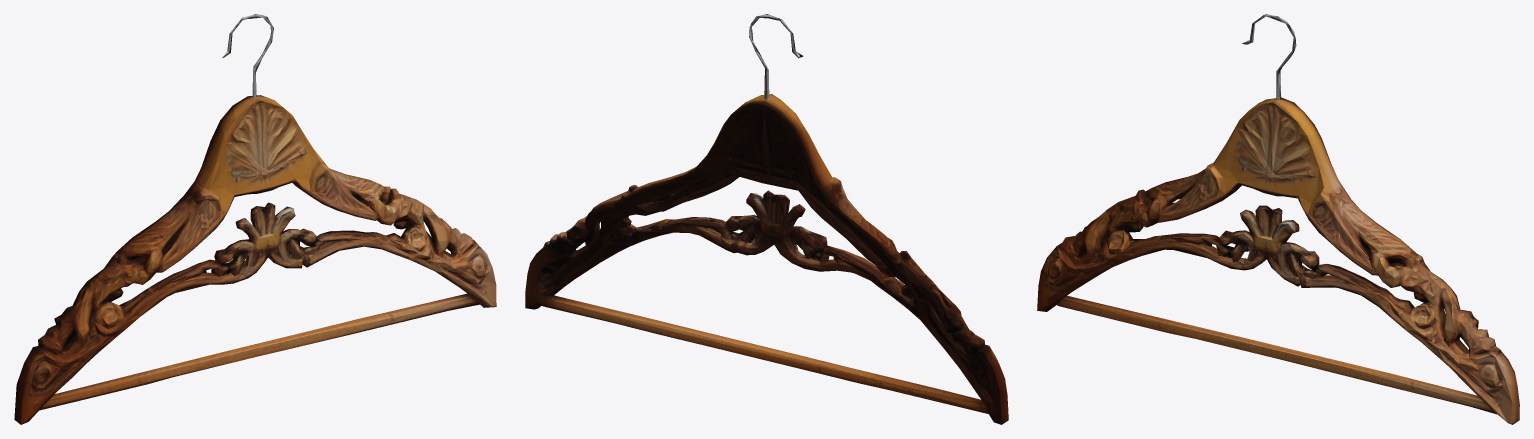
Rendered from wooden-hanger-vintage.jpeg.glb.
3 renders of one model, left to right at view 1: azimuth 30°, elevation 25°; view 2: azimuth 150°, elevation 25°; view 3: azimuth 330°, elevation 25°, orthographic.
Parts seen in each view (by area): view 1: world; view 2: world; view 3: world.
Part boxes in pixels (x1=…): world: x1=14, y1=14, x2=496, y2=424; world: x1=525, y1=14, x2=1008, y2=424; world: x1=1037, y1=14, x2=1519, y2=424.
Bounding box in the file's own units: 1 × 0.7042 × 0.0762.
Materials: 1 (1 with a texture image).
